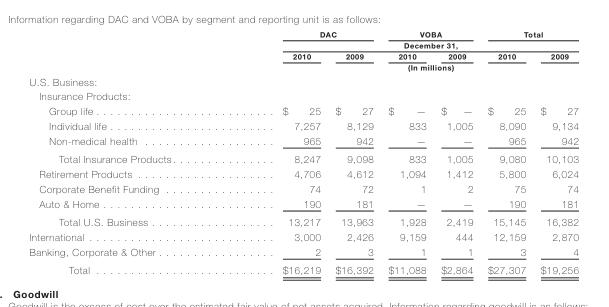table: (28, 29, 578, 275)
table column: (28, 29, 228, 275), (228, 29, 327, 275), (327, 29, 380, 275), (380, 29, 433, 275), (479, 29, 532, 275), (433, 29, 479, 275), (532, 29, 578, 275)
table column header: (28, 29, 578, 73)
table projected row header: (28, 73, 578, 88), (28, 88, 578, 103)
table row: (28, 132, 578, 149), (28, 149, 578, 166), (28, 195, 578, 212), (28, 212, 578, 229), (28, 244, 578, 260), (28, 73, 578, 88), (28, 88, 578, 103), (28, 103, 578, 118), (28, 166, 578, 181), (28, 229, 578, 244), (28, 260, 578, 275), (28, 118, 578, 132), (28, 181, 578, 195), (28, 61, 578, 73), (28, 39, 578, 50), (28, 50, 578, 61), (28, 29, 578, 39)
table spanning cell: (228, 61, 578, 73), (228, 39, 578, 50), (228, 29, 380, 39), (380, 29, 479, 39), (479, 29, 578, 39)
